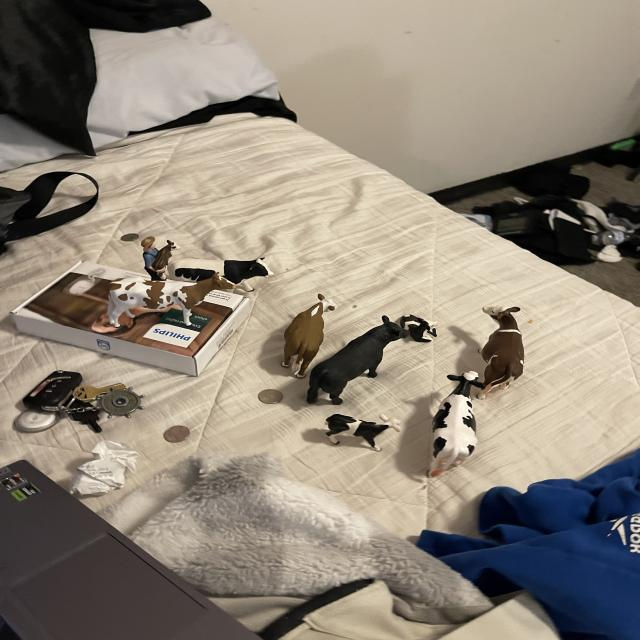cow: (293, 307, 419, 419), (103, 271, 238, 330), (268, 287, 343, 381), (426, 368, 483, 481), (475, 303, 532, 404), (323, 412, 401, 454), (168, 258, 273, 284), (396, 304, 441, 350), (150, 238, 177, 274)
person: (140, 235, 162, 282)
